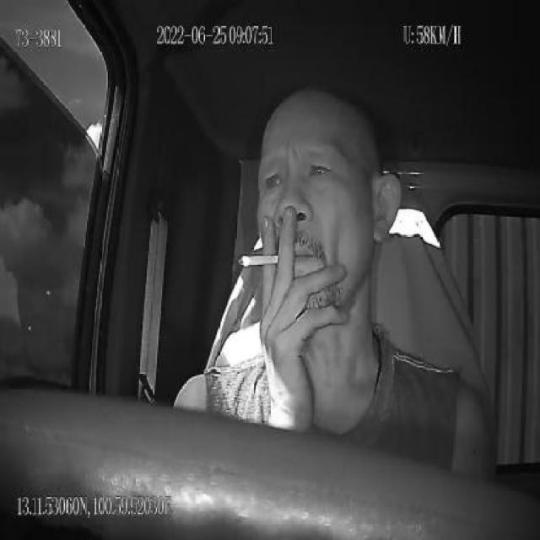smoking: (238, 252, 280, 269)
